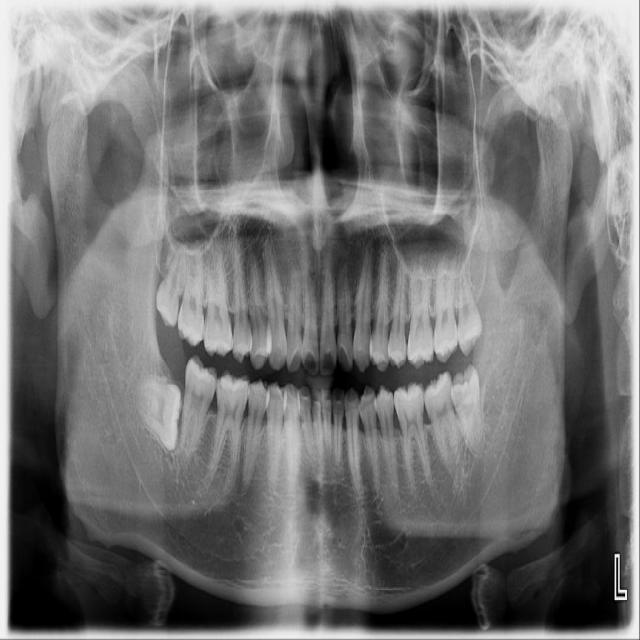impacted tooth: (133, 377, 182, 449), (449, 366, 487, 454)
